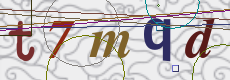7: (47, 19, 76, 59)
d: (183, 18, 215, 59)
m: (88, 30, 130, 59)
q: (142, 17, 173, 63)
t: (8, 20, 36, 62)
